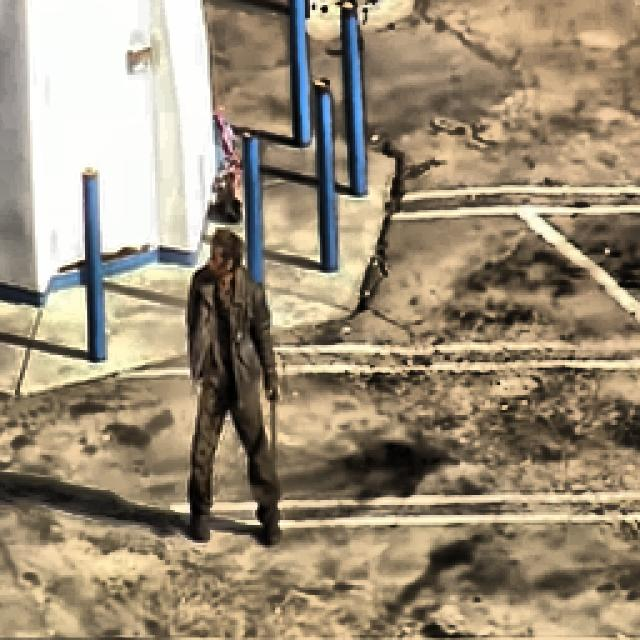Human: (149, 216, 307, 563)
